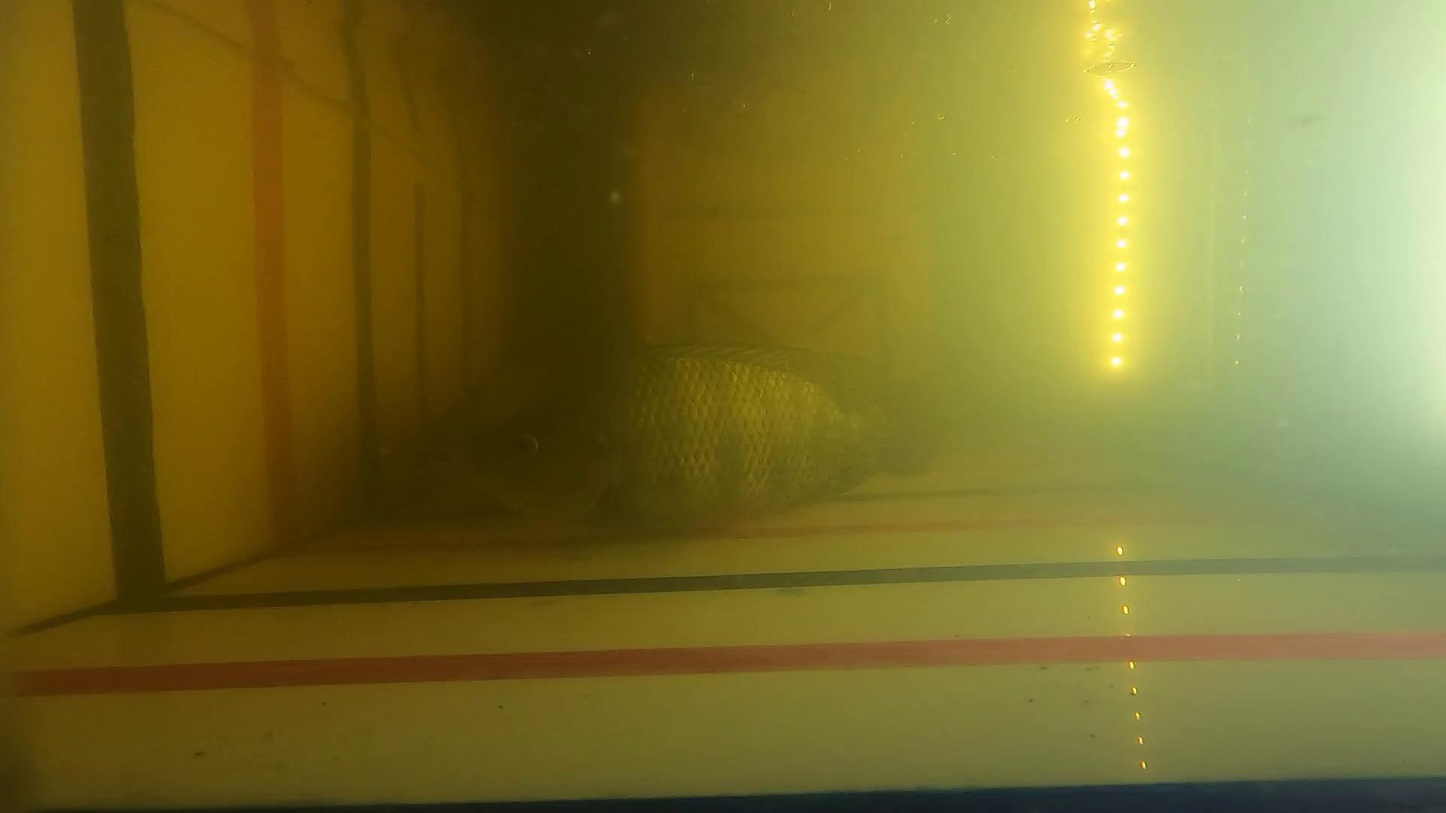Tilapia: (440, 346, 956, 534)
